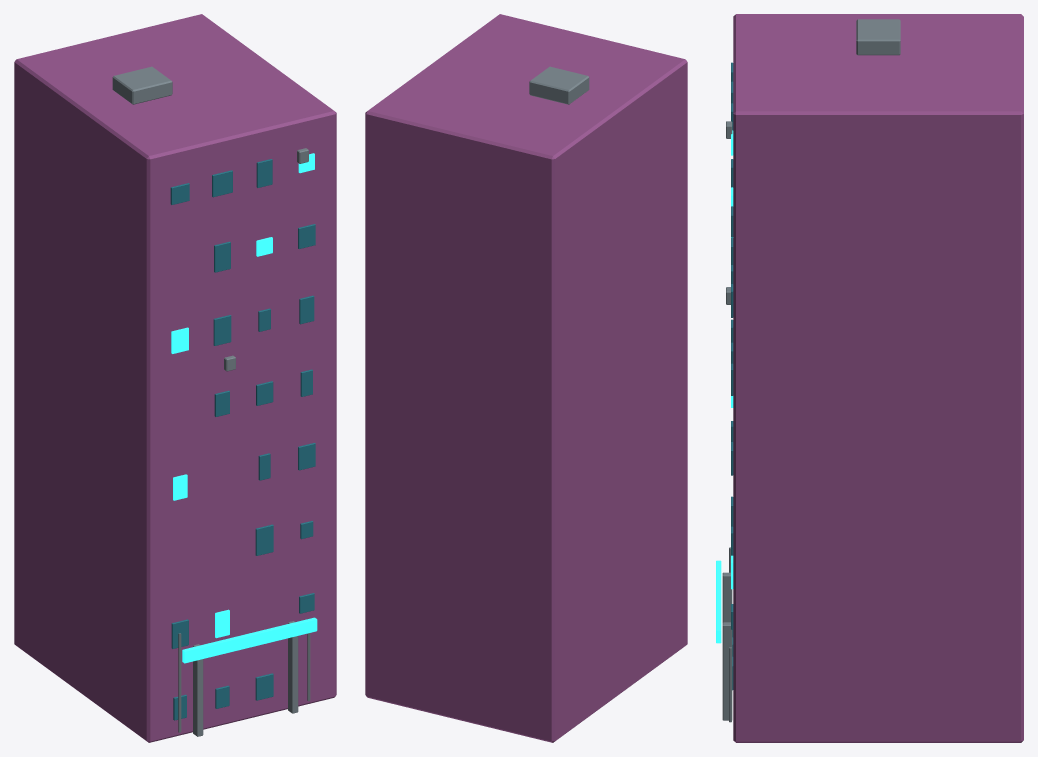
Rendered from building_016_seed11.glb.
The picture shows the model from 3 angles, left to right: view 1: azimuth 30°, elevation 25°; view 2: azimuth 150°, elevation 25°; view 3: azimuth 270°, elevation 25°; orthographic projection. The views are drawn at different scales.
Parts seen in each view (by area): view 1: building_016_seed11; view 2: building_016_seed11; view 3: building_016_seed11.
Boxes of the visible parts, x1,y1,x2,y2 form: building_016_seed11: (14, 14, 336, 742); building_016_seed11: (365, 14, 687, 742); building_016_seed11: (716, 14, 1023, 742).
Bounding box in the file's own units: 6.72 × 20.34 × 8.76.
